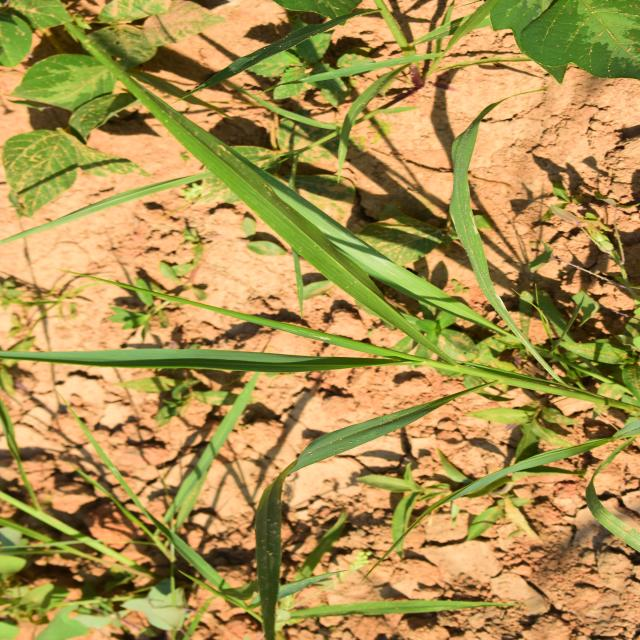green_foxtail: (212, 74, 538, 512)
